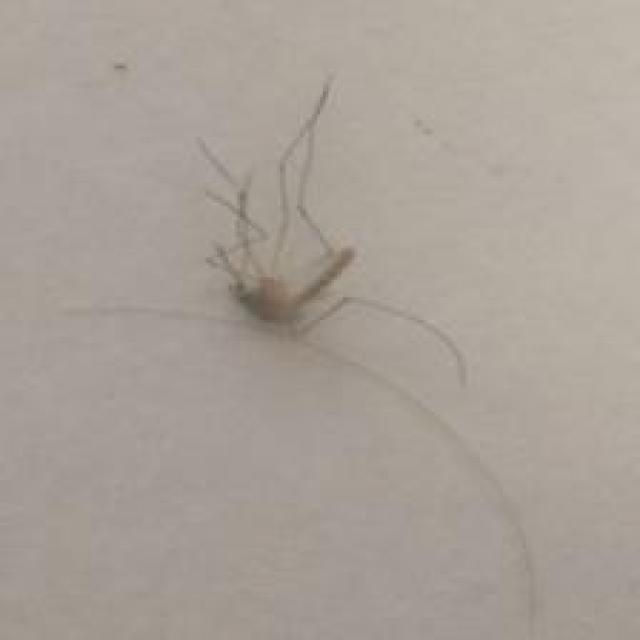Culex: (194, 73, 469, 390)
